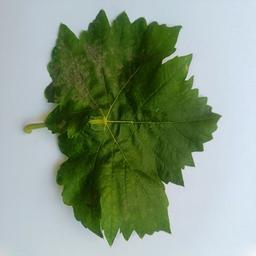Powdery-Mildew: (66, 60, 91, 109), (54, 38, 70, 82), (87, 44, 109, 75), (66, 126, 78, 139)
